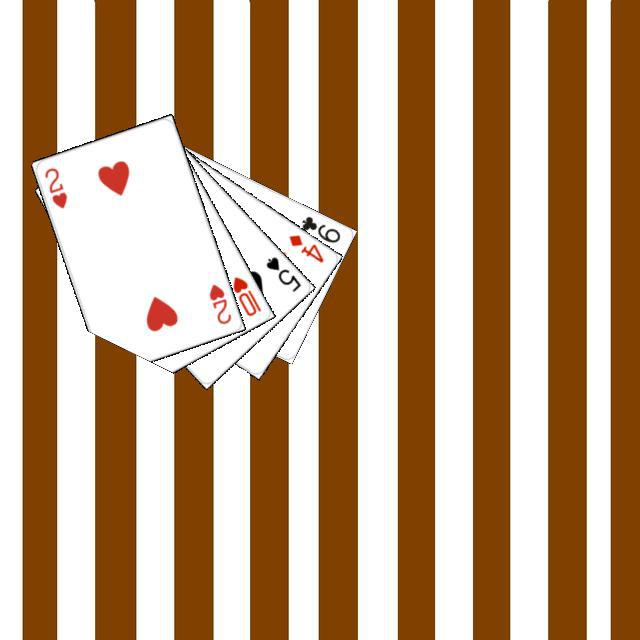10h: (228, 271, 263, 318)
2h: (39, 163, 69, 210), (204, 279, 233, 326)
4d: (284, 229, 325, 264)
5s: (261, 252, 303, 294)
9c: (296, 211, 342, 245)
